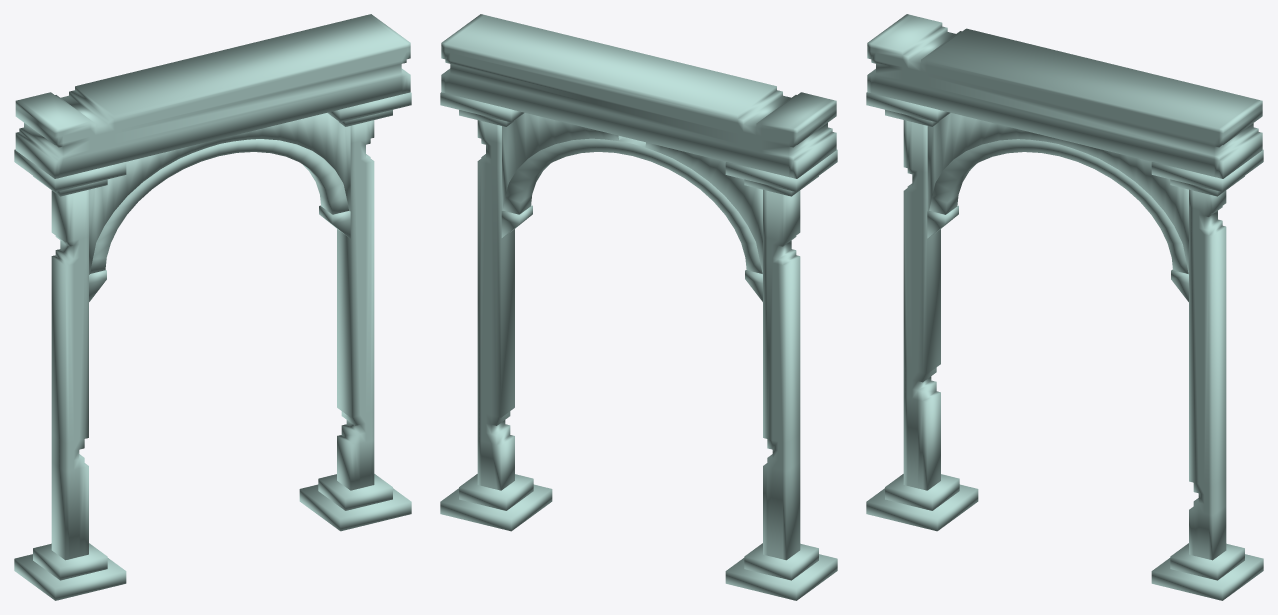
The model's file is Columna_Model.fbx.
3 views of the same model, side by side, from view 1: azimuth 30°, elevation 25°; view 2: azimuth 150°, elevation 25°; view 3: azimuth 330°, elevation 25° (orthographic).
Visible parts, largest first — view 1: columnas:Box014; view 2: columnas:Box014; view 3: columnas:Box014.
Part boxes in pixels (x1=…): columnas:Box014: x1=14, y1=14, x2=411, y2=600; columnas:Box014: x1=440, y1=14, x2=837, y2=600; columnas:Box014: x1=866, y1=14, x2=1263, y2=600.
Size of the model in its own units: 452 by 571 by 90.23.
